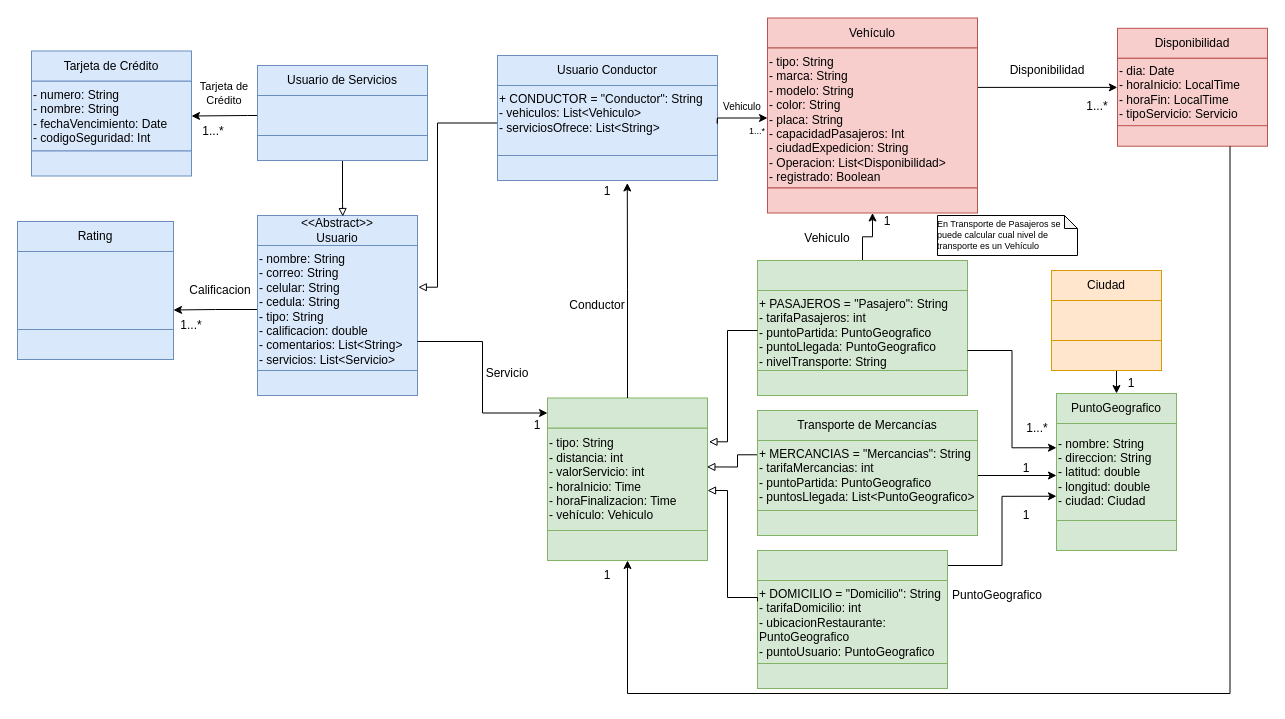
The diagram is 1285 pixels wide and 719 high, and some of its shapes have lost their labels. Here are the shapes that lost their labels. From the top down, the centre of each, then its label:
(342,115): + CLIENTE = "Cliente": String
(95,290): - revisor: Usuario - revisado: Usuario - comentario: String - rating: double
(862,275): Transporte de Pasajeros
(1106,322): - idCiudad: int - nombre: String
(627,412): <<Abstract>> Servicio
(852,565): Entrega comida a domicilio
